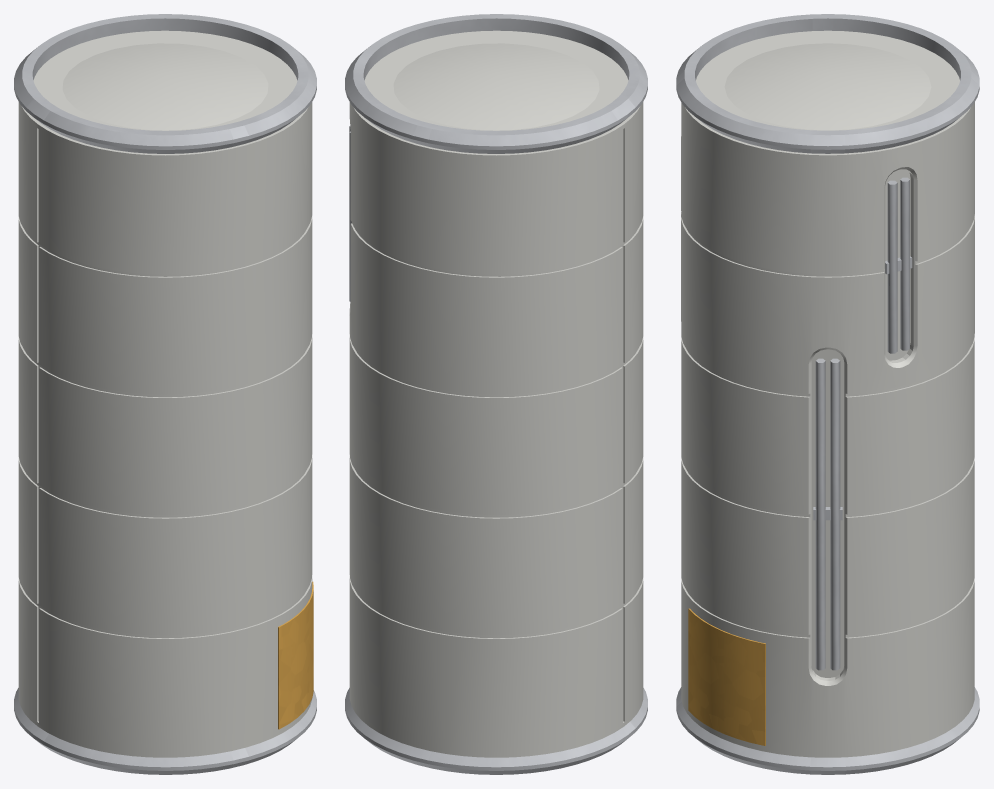
File: ax_tank_01_modern_methalox_s_long.glb
3 renders of one model, left to right at view 1: azimuth 30°, elevation 25°; view 2: azimuth 150°, elevation 25°; view 3: azimuth 270°, elevation 25°, orthographic.
Visible parts, largest first — view 1: tank_barrel, dome_caps, end_rings, mli_patch; view 2: tank_barrel, dome_caps, end_rings; view 3: tank_barrel, dome_caps, end_rings, raceway_lines, mli_patch.
Boxes of the visible parts, box(x1,y1,x2,y2) form: tank_barrel: box(18, 102, 312, 757); dome_caps: box(33, 30, 297, 130); end_rings: box(14, 14, 316, 774); mli_patch: box(278, 581, 313, 729); tank_barrel: box(349, 102, 643, 757); dome_caps: box(364, 30, 628, 130); end_rings: box(345, 14, 647, 774); tank_barrel: box(681, 102, 974, 757); dome_caps: box(696, 30, 959, 130); end_rings: box(676, 14, 979, 774); raceway_lines: box(813, 177, 912, 670); mli_patch: box(688, 608, 765, 745).
Bounding box in the file's own units: 1.29 × 3 × 1.29.
3 materials, 2 textured.
